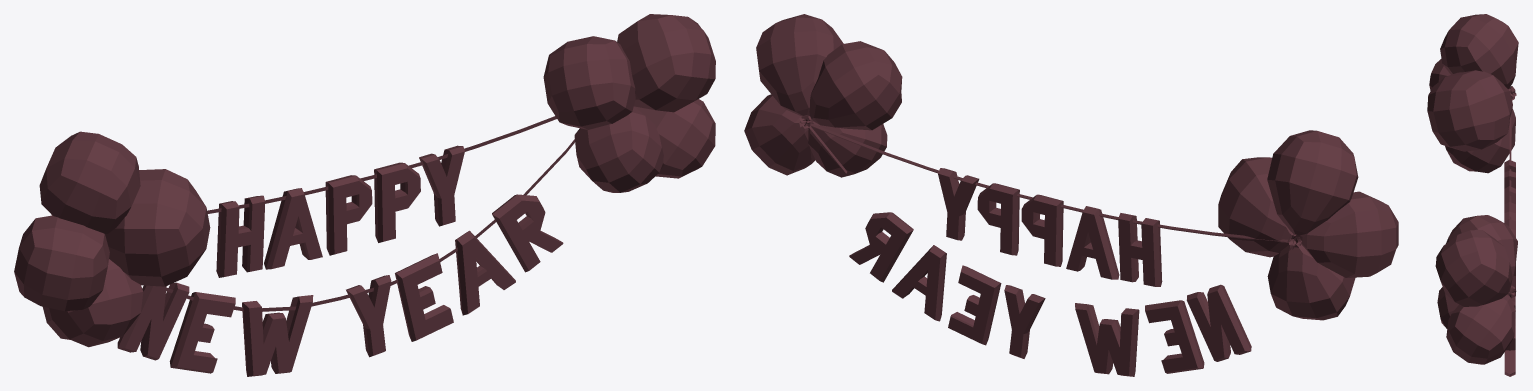
Rendered from props-balloons-sign-happy-new-year.glb.
3 views of the same model, side by side, from view 1: azimuth 30°, elevation 25°; view 2: azimuth 150°, elevation 25°; view 3: azimuth 270°, elevation 25° (orthographic). The views are drawn at different scales.
Visible parts, largest first — view 1: balloons-sign-happy-new-year; view 2: balloons-sign-happy-new-year; view 3: balloons-sign-happy-new-year.
Part boxes in pixels (x1,y1,x2,y2): balloons-sign-happy-new-year: [14, 14, 715, 376]; balloons-sign-happy-new-year: [744, 14, 1398, 376]; balloons-sign-happy-new-year: [1427, 14, 1518, 376].
Size of the model in its own units: 2.59 by 1.09 by 0.3934.
